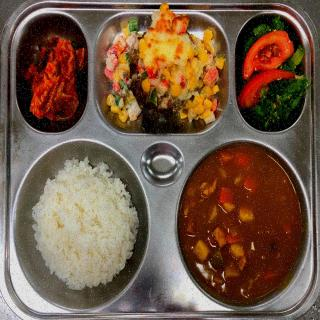Nasi: (29, 157, 143, 295)
